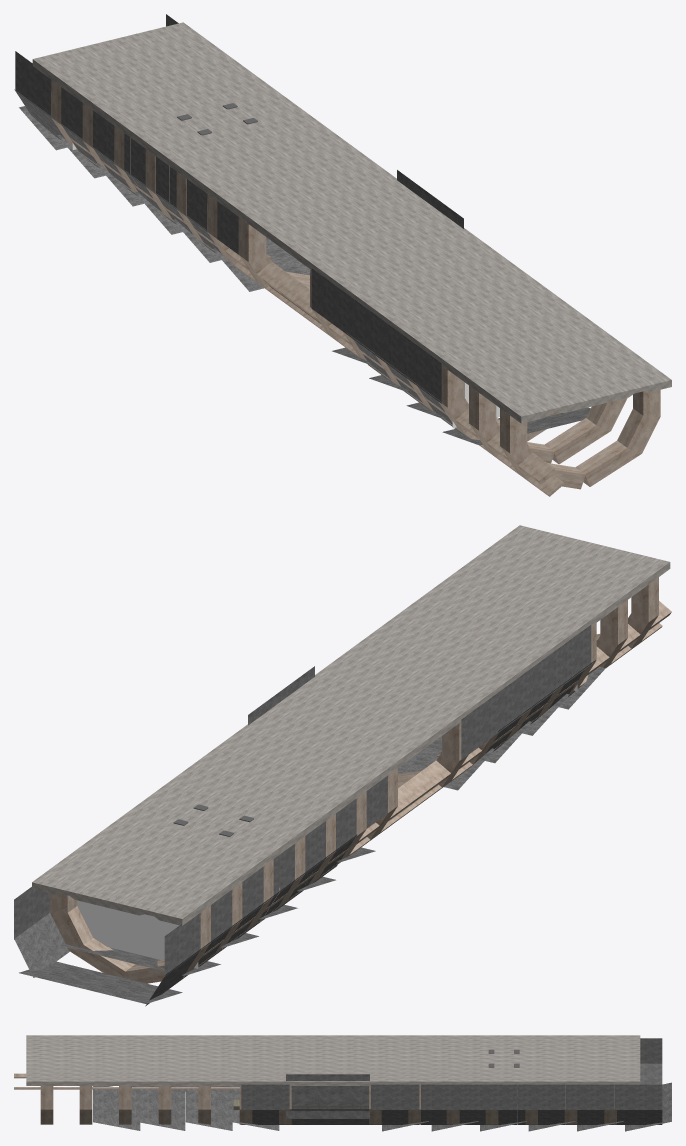
Rendered from MTL_garage.glb.
3 renders of one model, top to bottom at view 1: azimuth 30°, elevation 25°; view 2: azimuth 150°, elevation 25°; view 3: azimuth 270°, elevation 25°, orthographic. The views are drawn at different scales.
Visible parts, largest first — view 1: Cube, Cube.003, Plane, Cube.084, Plane.034, Plane.049, Cube.089, Cube.083, Plane.050, Plane.004, Plane.008, Plane.019 (+15 smaller); view 2: Cube, Plane.057, Plane.037, Plane.036, Cube.003, Plane, Plane.004, Plane.034, Plane.049, Plane.033, Plane.010, Plane.050 (+13 smaller); view 3: Cube, Plane.011, Plane.054, Plane.053, Plane.055, Plane.002, Plane.001, Plane.018, Plane.023, Plane.033, Plane.013, Plane.028 (+32 smaller).
Part boxes in pixels (left/top/right/bottom): Cube: left=32, top=22, right=671, bottom=423; Cube.003: left=239, top=253, right=328, bottom=334; Plane: left=311, top=268, right=349, bottom=336; Cube.084: left=500, top=442, right=564, bottom=496; Plane.034: left=15, top=51, right=51, bottom=116; Plane.049: left=381, top=320, right=414, bottom=383; Cube.089: left=544, top=418, right=610, bottom=464; Cube.083: left=575, top=440, right=641, bottom=486; Plane.050: left=403, top=339, right=441, bottom=403; Plane.004: left=350, top=296, right=381, bottom=359; Plane.008: left=212, top=237, right=310, bottom=291; Plane.019: left=130, top=138, right=168, bottom=203; Cube: left=32, top=525, right=670, bottom=925; Plane.057: left=77, top=900, right=198, bottom=968; Plane.037: left=19, top=961, right=182, bottom=1003; Plane.036: left=14, top=913, right=69, bottom=977; Cube.003: left=367, top=760, right=450, bottom=840; Plane: left=461, top=692, right=499, bottom=759; Plane.004: left=493, top=669, right=531, bottom=735; Plane.034: left=164, top=913, right=200, bottom=976; Plane.049: left=531, top=644, right=564, bottom=708; Plane.033: left=14, top=887, right=50, bottom=939; Plane.010: left=398, top=736, right=494, bottom=790; Plane.050: left=556, top=625, right=591, bottom=683; Cube: left=26, top=1035, right=640, bottom=1085; Plane.011: left=286, top=1074, right=369, bottom=1118; Plane.054: left=138, top=1086, right=185, bottom=1130; Plane.053: left=185, top=1086, right=232, bottom=1130; Plane.055: left=93, top=1086, right=140, bottom=1130; Plane.002: left=241, top=1084, right=289, bottom=1109; Plane.001: left=371, top=1084, right=419, bottom=1109; Plane.018: left=469, top=1084, right=517, bottom=1109; Plane.023: left=517, top=1084, right=565, bottom=1109; Plane.033: left=614, top=1084, right=662, bottom=1109; Plane.013: left=421, top=1084, right=468, bottom=1109; Plane.028: left=566, top=1084, right=613, bottom=1109.
Size of the model in its own units: 37.86 by 25.88 by 225.
Materials: 25 (18 with a texture image).
